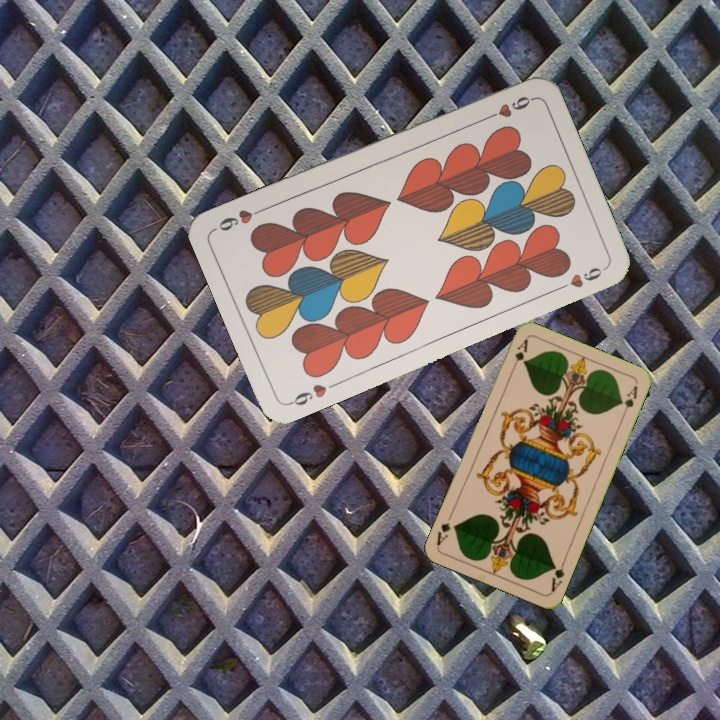GA: (507, 335, 531, 374), (547, 555, 569, 594)
H9: (479, 92, 536, 124), (284, 378, 341, 409)
